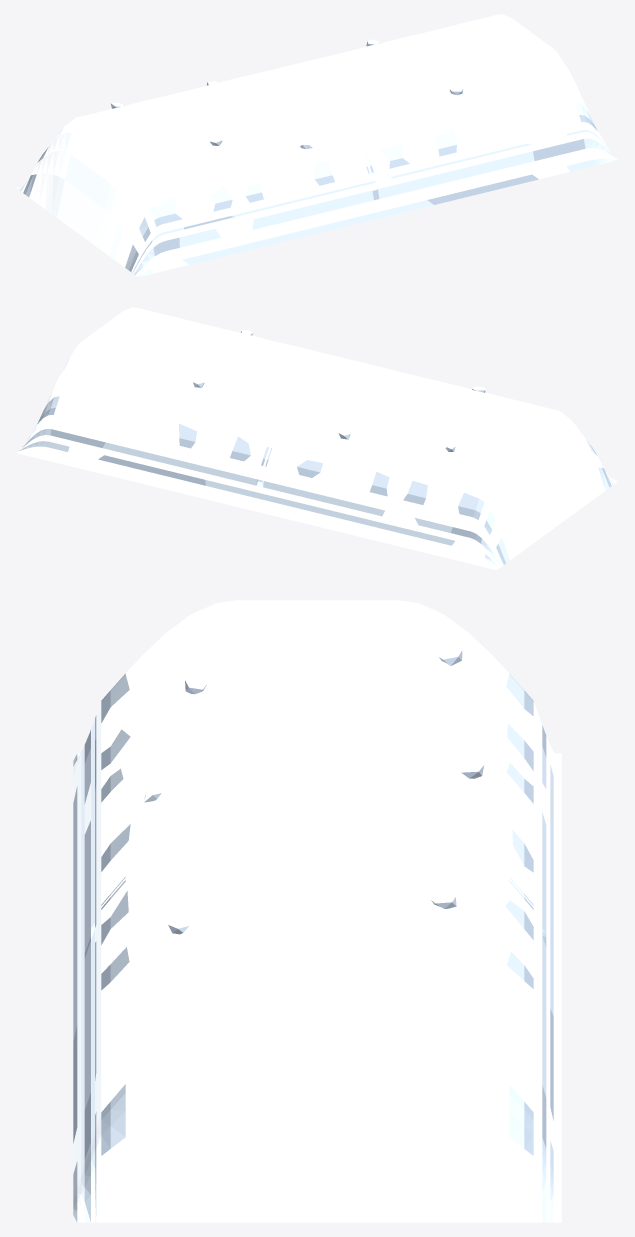
The model's file is snow-ridge.glb.
3 views of the same model, one above another, from view 1: azimuth 30°, elevation 25°; view 2: azimuth 150°, elevation 25°; view 3: azimuth 270°, elevation 25° (orthographic). The views are drawn at different scales.
Visible parts, largest first — view 1: snow-ridge; view 2: snow-ridge; view 3: snow-ridge.
Part boxes in pixels (x1,y1,x2,y2): snow-ridge: (16, 14, 618, 277); snow-ridge: (16, 307, 618, 570); snow-ridge: (73, 600, 561, 1222).
Size of the model in its own units: 1100 by 200 by 500.
